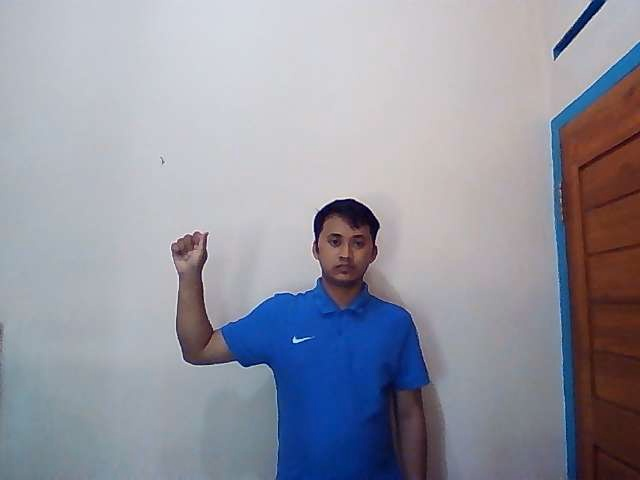A: (170, 231, 211, 274)
